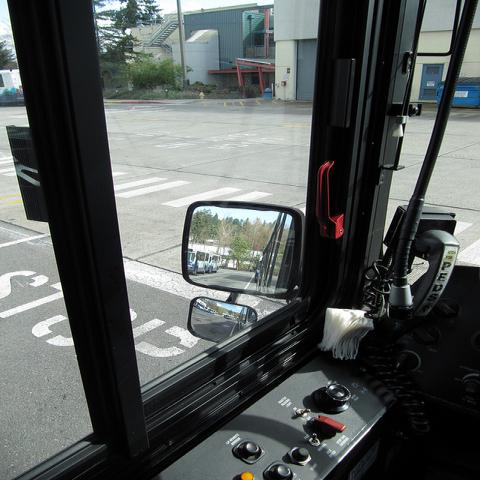bus: (0, 69, 25, 105), (188, 248, 221, 275)
car: (434, 77, 479, 109), (0, 91, 24, 107)
